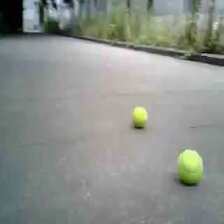tennis: (177, 149, 201, 183), (133, 106, 147, 127)
